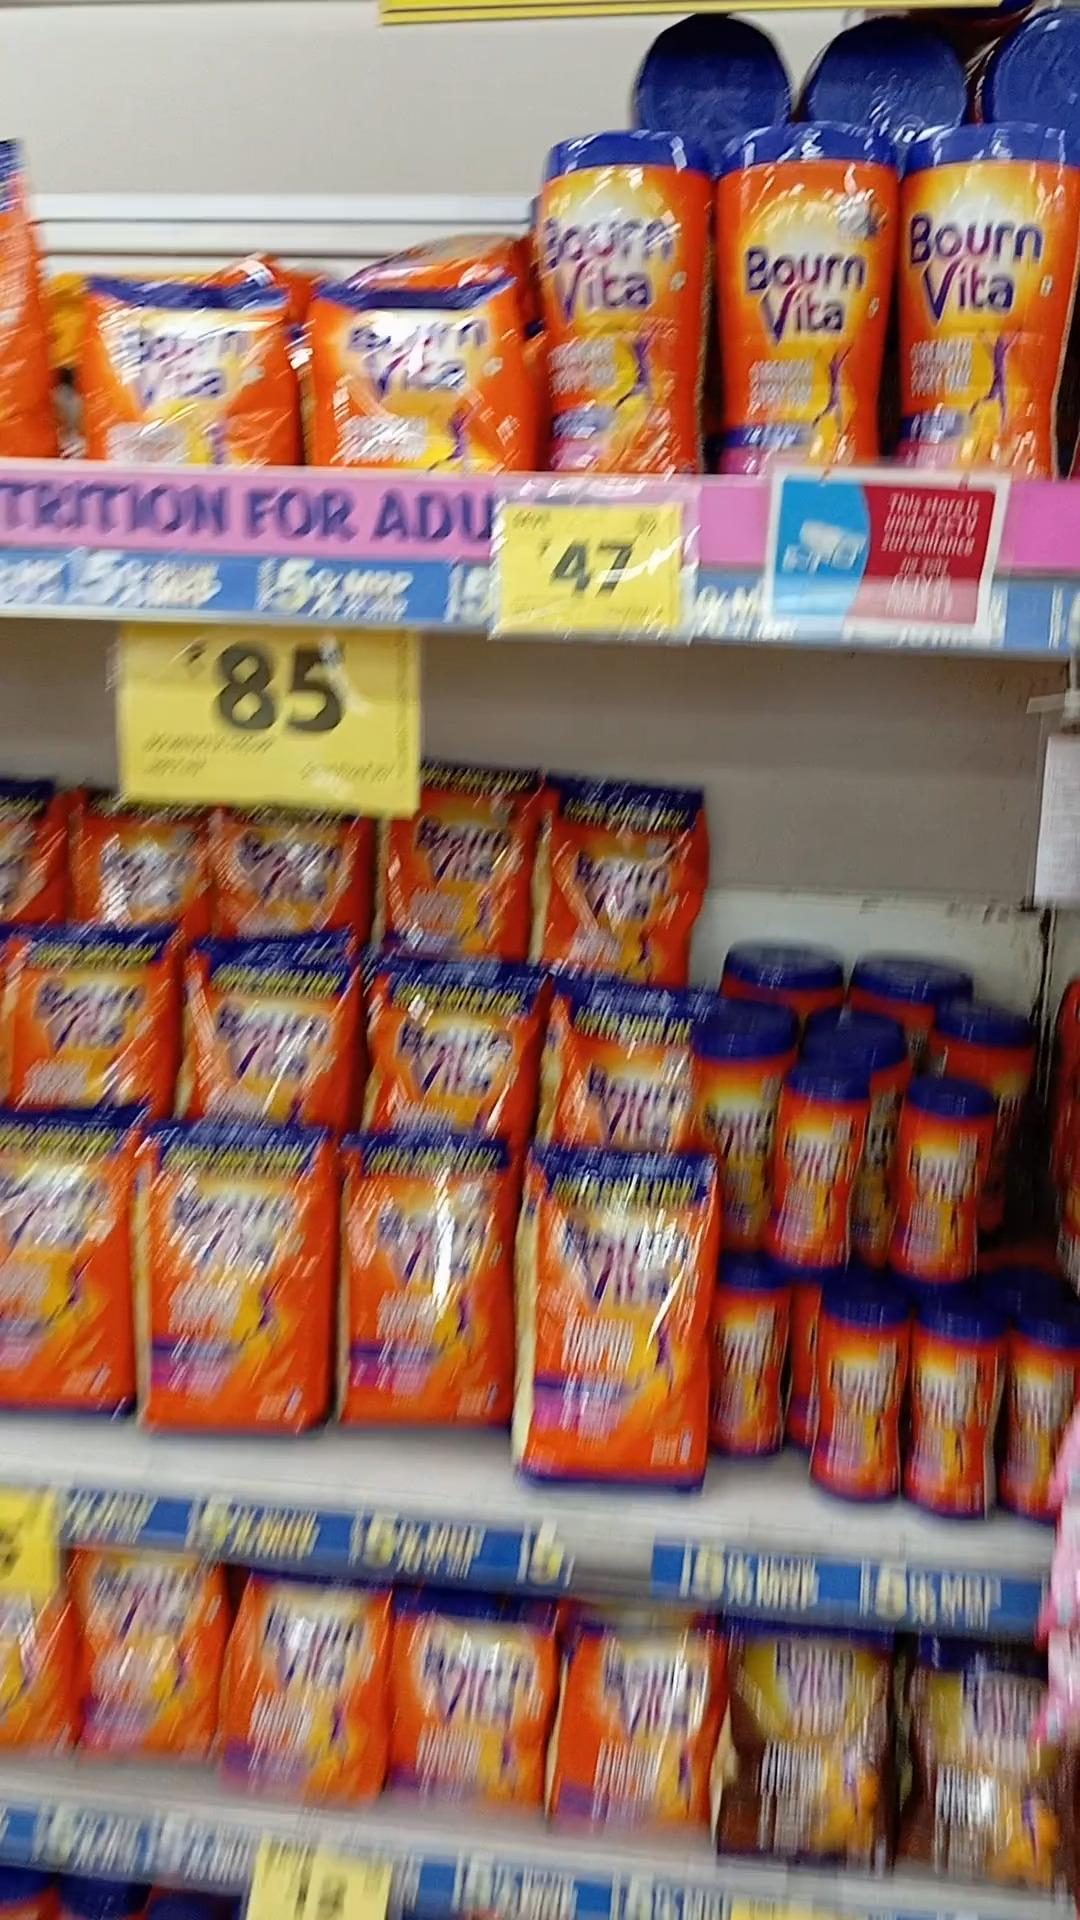BOURN_VITA_1_KG_JAR: (897, 112, 1080, 473), (531, 127, 698, 473), (719, 119, 870, 477)
BOURN_VITA_1_KG_POUCH: (141, 1129, 328, 1441), (539, 1164, 712, 1493), (351, 1131, 509, 1432), (0, 1127, 131, 1418), (0, 923, 169, 1117), (393, 742, 535, 961), (551, 771, 705, 973), (185, 939, 344, 1117), (377, 965, 539, 1129), (558, 984, 694, 1151)
BOURN_VITA_500_G_JAR: (816, 1298, 903, 1509), (770, 1077, 858, 1276), (887, 1081, 975, 1278), (919, 1303, 994, 1516), (990, 1323, 1067, 1532), (712, 1278, 793, 1465)
BOURN_VITA_500_G_POUCH: (560, 1600, 713, 1841), (223, 1561, 365, 1800), (404, 1584, 538, 1820), (80, 1559, 214, 1762)
BOURN_VITA_75_G_POUCH: (307, 277, 509, 467), (94, 281, 299, 459)
BOURN_VITA_FIVE_STAR_MAGIC_500_G_POUCH: (913, 1626, 1058, 1890), (742, 1613, 890, 1870)
